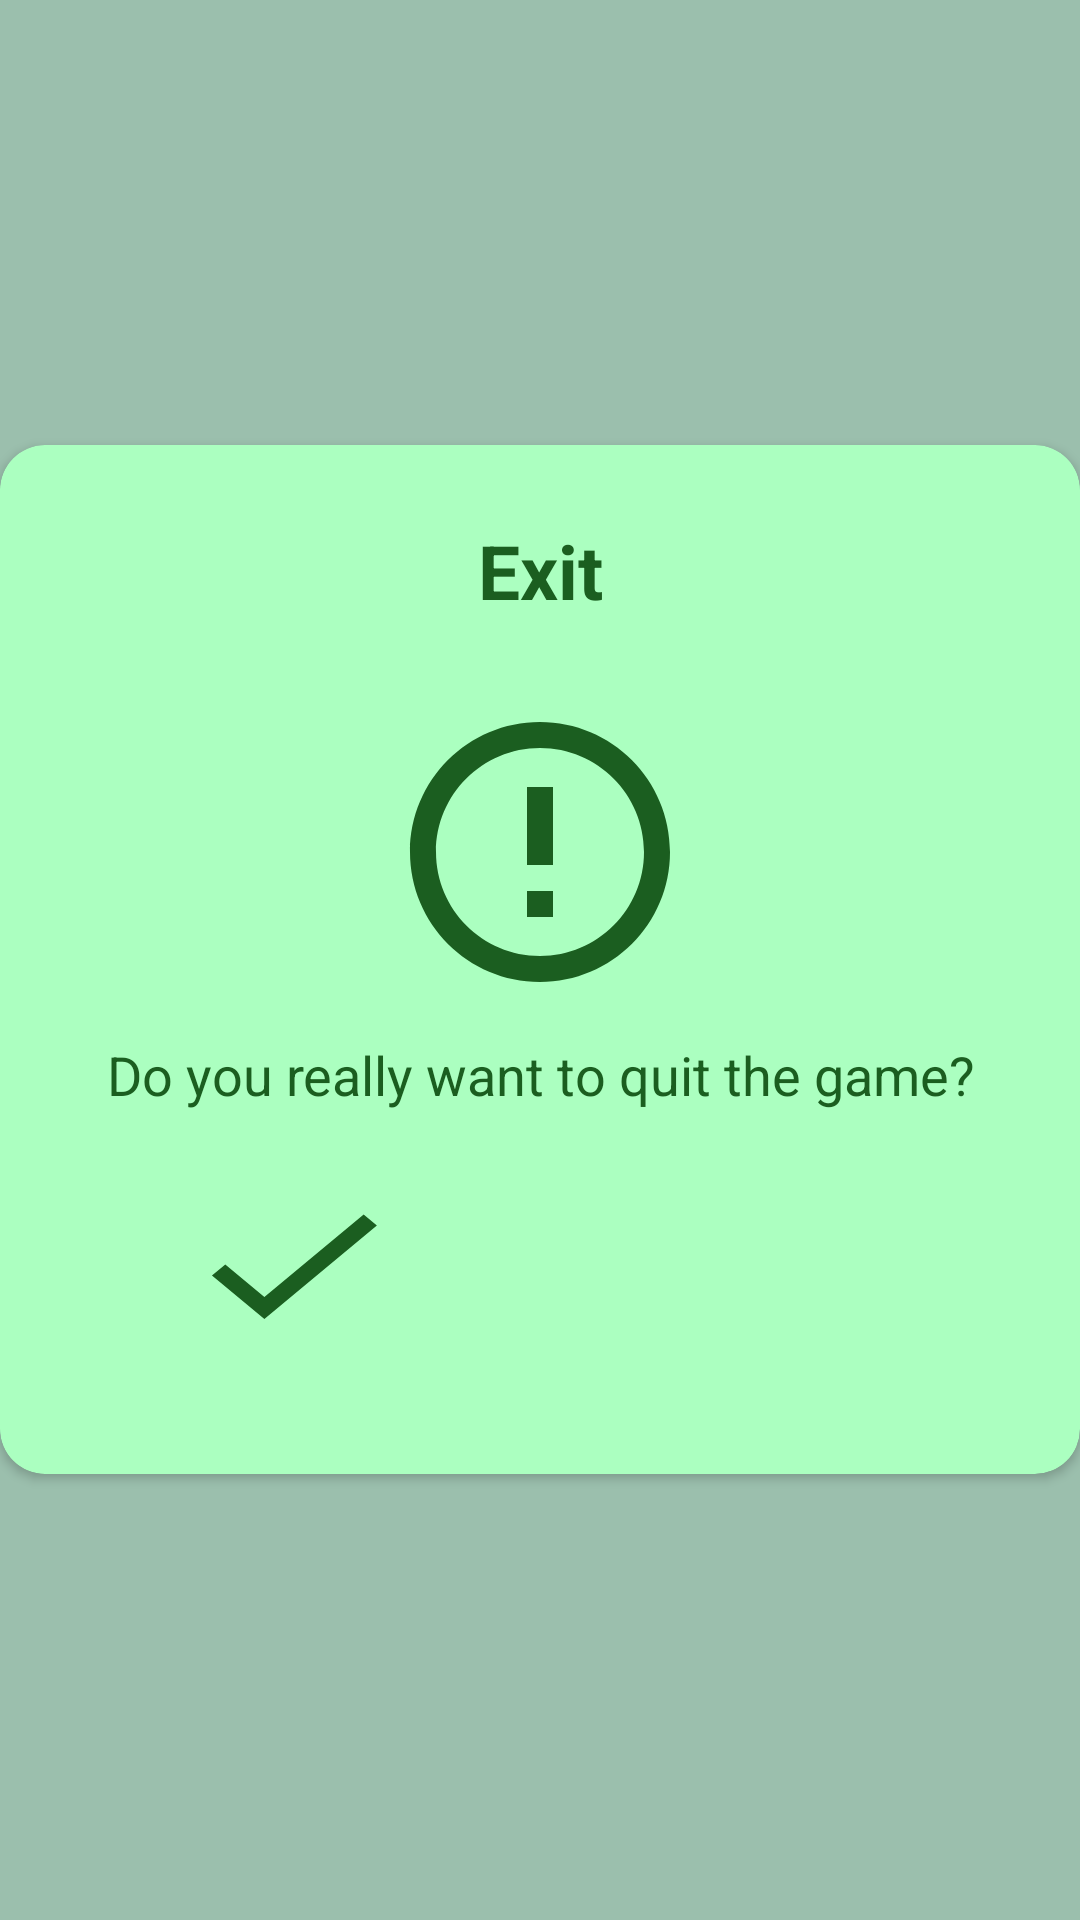

Point at icon controls on the screen. Image size 1080×1920, points as [x,y].
check: [294,1266]
error: [540,852]
